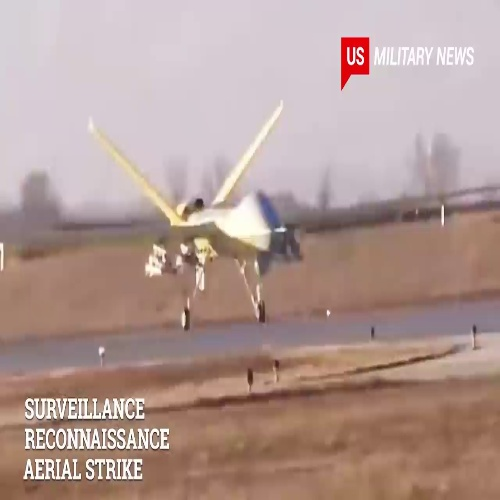uav: (79, 101, 314, 329)
